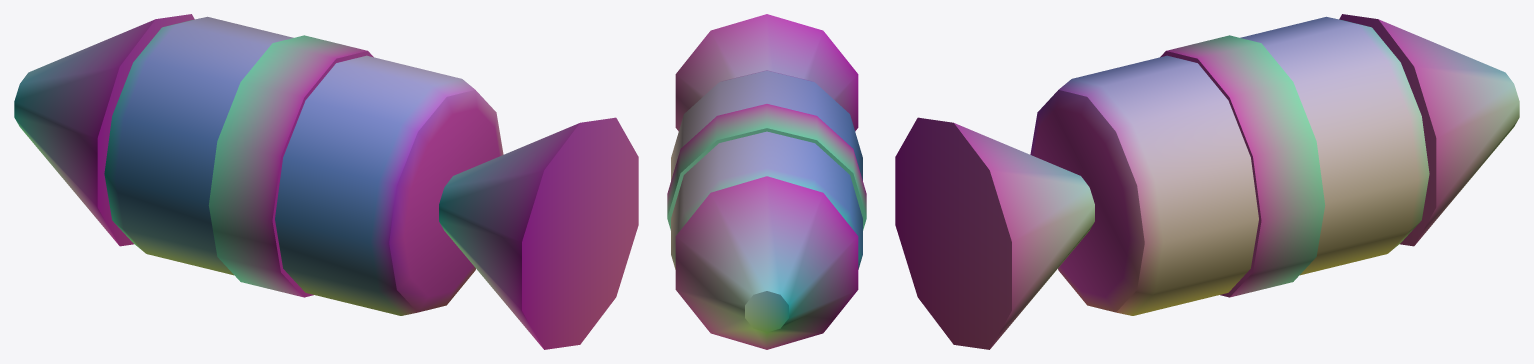
File: env_deco_wrapper.glb
The picture shows the model from 3 angles, left to right: view 1: azimuth 30°, elevation 25°; view 2: azimuth 150°, elevation 25°; view 3: azimuth 270°, elevation 25°; orthographic projection. The views are drawn at different scales.
Visible parts, largest first — view 1: env_deco_wrapper_mesh; view 2: env_deco_wrapper_mesh; view 3: env_deco_wrapper_mesh.
Boxes of the visible parts, x1,y1,x2,y2 form: env_deco_wrapper_mesh: (14, 14, 638, 349); env_deco_wrapper_mesh: (667, 14, 866, 349); env_deco_wrapper_mesh: (895, 14, 1519, 349).
Bounding box in the file's own units: 0.1824 × 0.104 × 0.2546.
